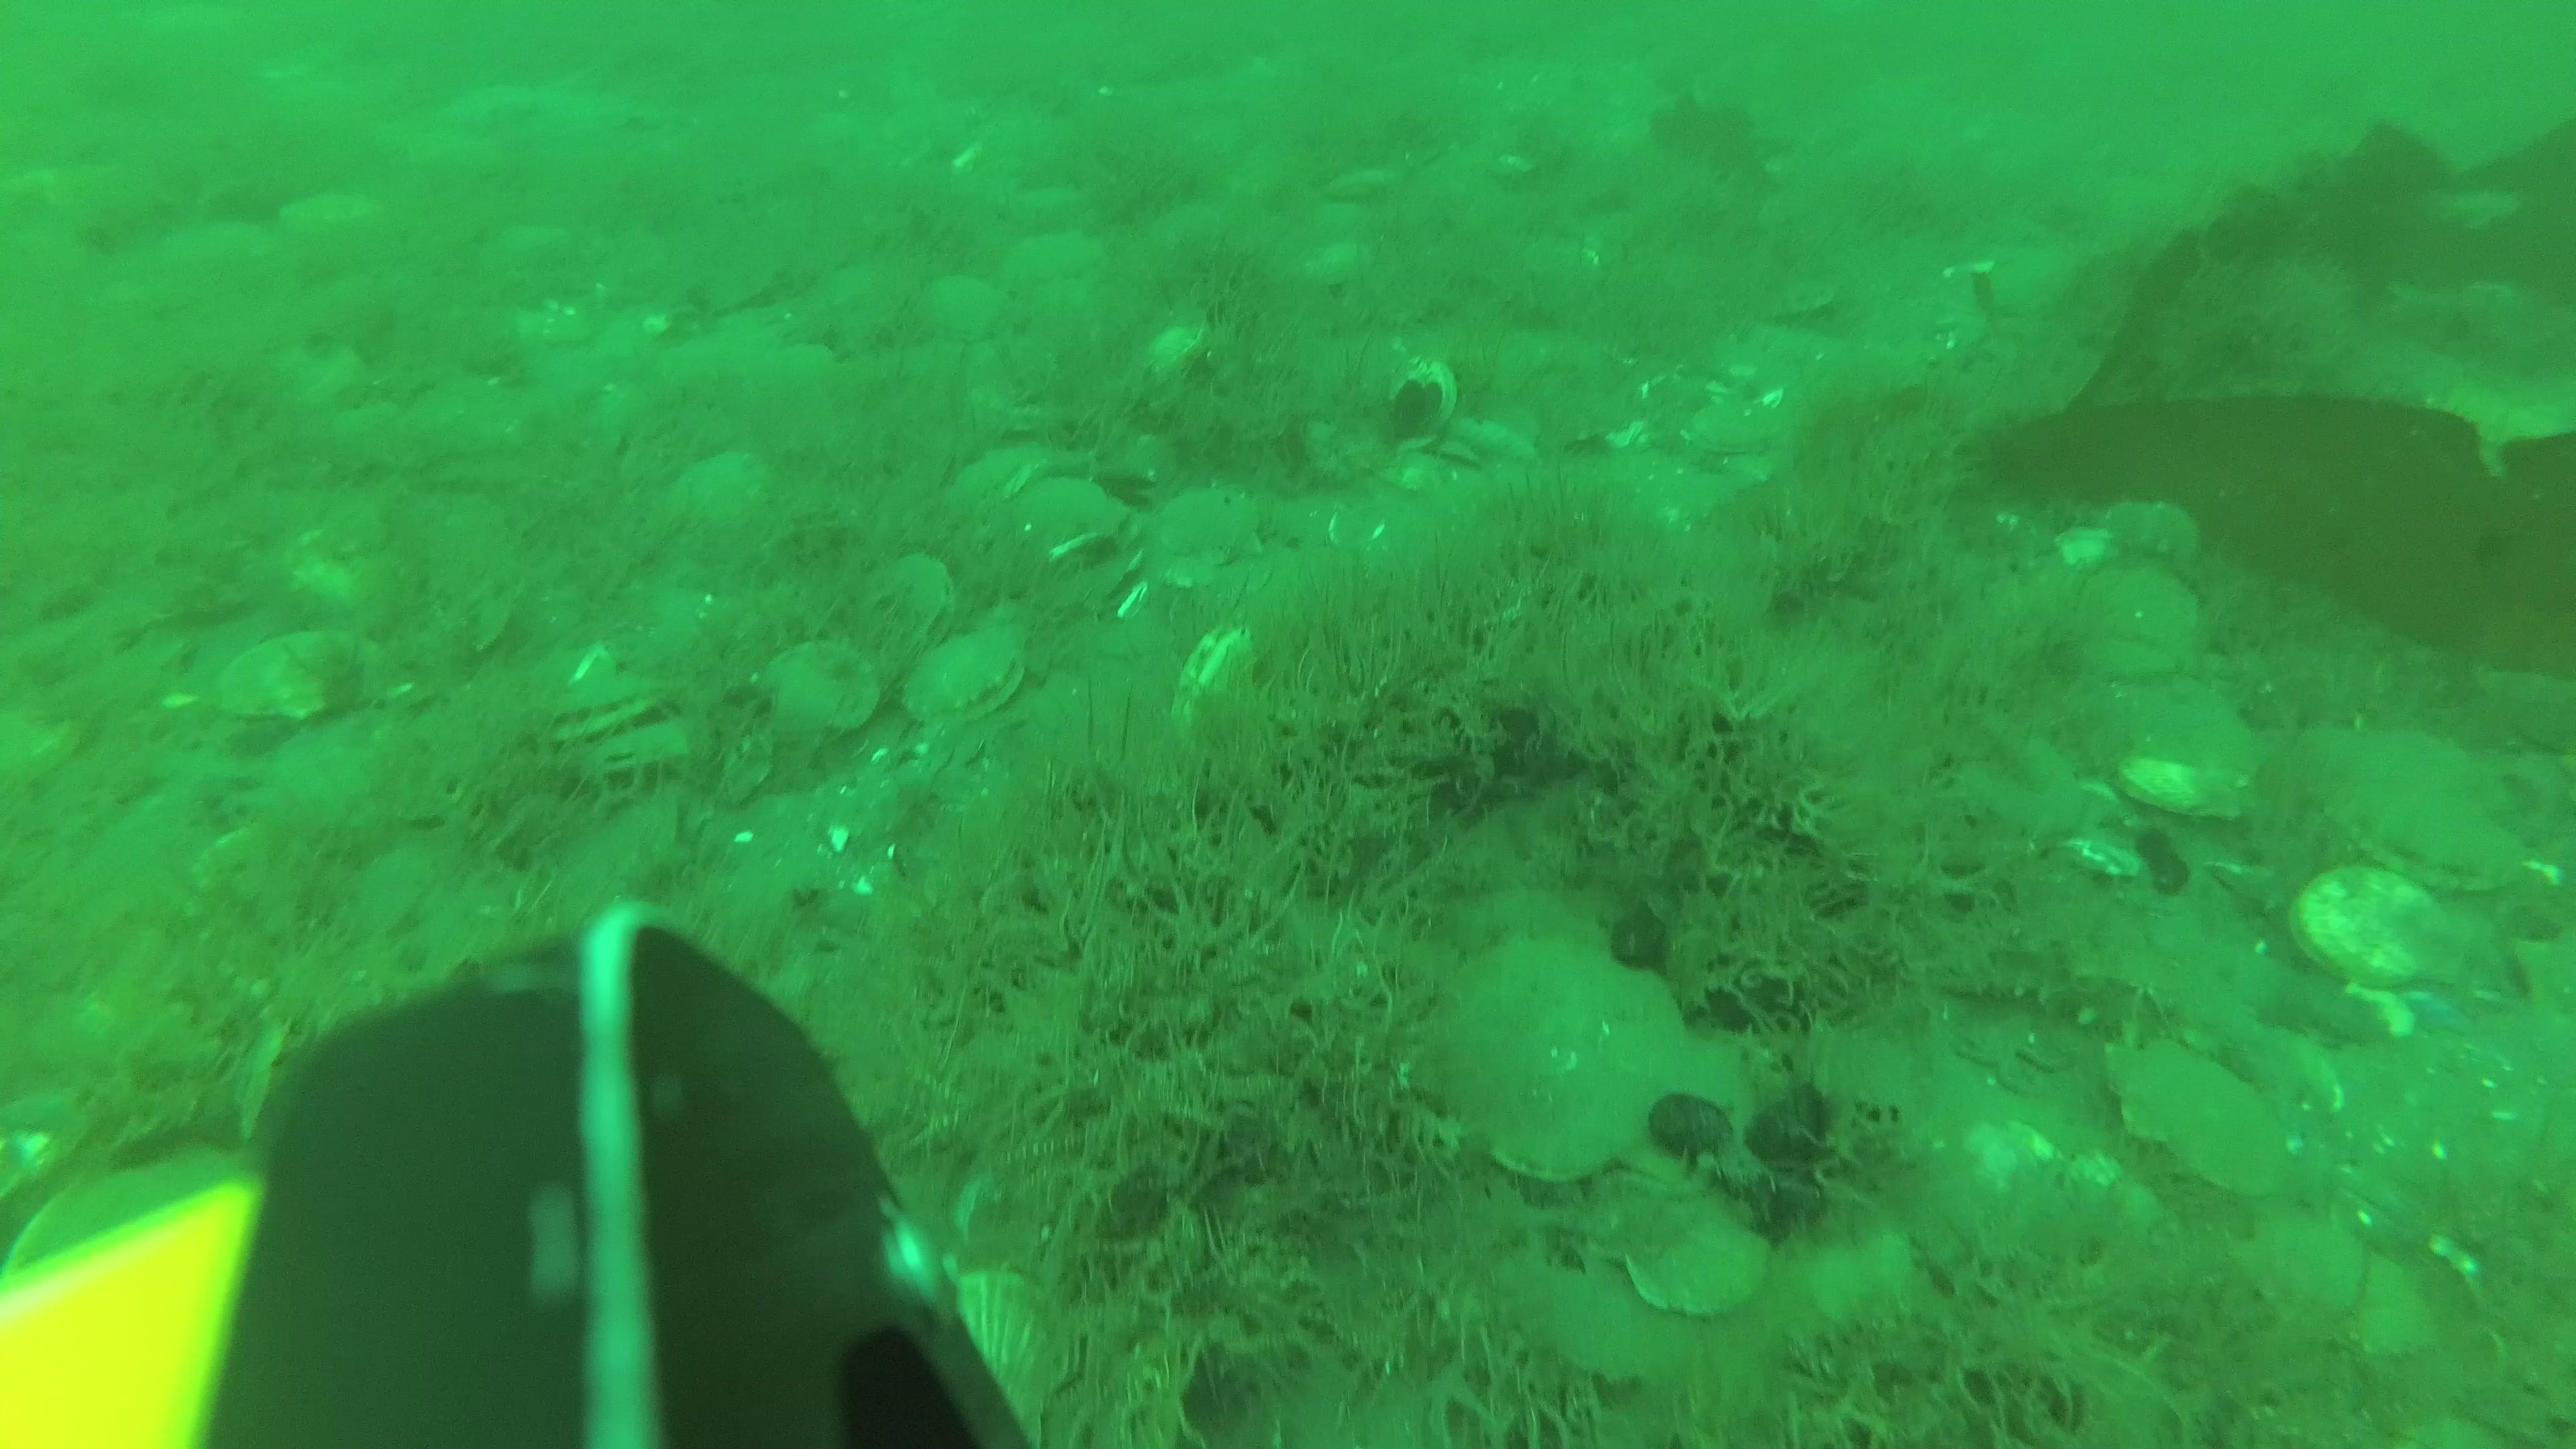holothurian: (1944, 927, 2155, 1042)
scallop: (1442, 938, 1690, 1171), (2111, 1047, 2291, 1215), (1615, 1044, 1759, 1194), (2342, 775, 2523, 892), (2298, 858, 2454, 987), (1626, 1192, 1773, 1313), (223, 639, 379, 741), (1582, 1139, 1702, 1247), (1146, 492, 1269, 582), (2141, 683, 2250, 775), (761, 646, 876, 732), (913, 644, 1024, 732), (863, 564, 962, 660), (2118, 747, 2243, 819), (2089, 559, 2204, 633), (552, 679, 669, 747), (676, 458, 777, 534), (589, 732, 709, 791), (1021, 485, 1108, 557), (961, 435, 1040, 513), (927, 276, 1007, 343), (1691, 403, 1771, 471)
